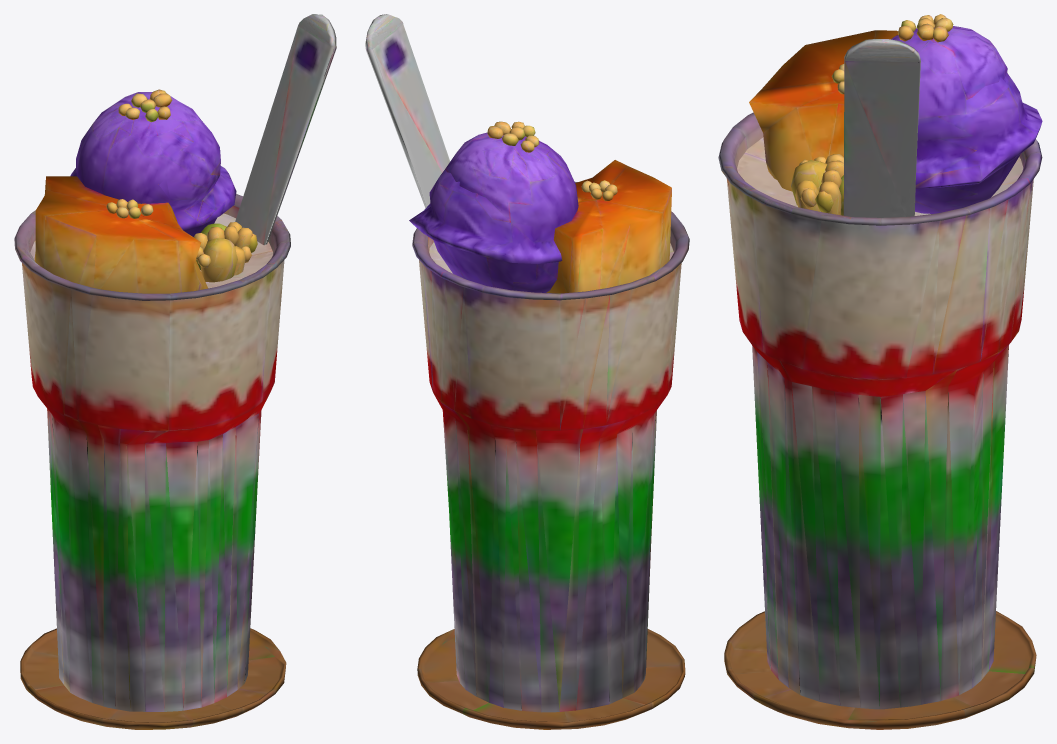
Rendered from halo-halo.glb.
The picture shows the model from 3 angles, left to right: view 1: azimuth 30°, elevation 25°; view 2: azimuth 150°, elevation 25°; view 3: azimuth 270°, elevation 25°; orthographic projection. The views are drawn at different scales.
Parts seen in each view (by area): view 1: geometry_0; view 2: geometry_0; view 3: geometry_0.
Boxes of the visible parts, x1,y1,x2,y2 form: geometry_0: (14,14,336,729); geometry_0: (365,14,689,729); geometry_0: (718,14,1042,729).
Size of the model in its own units: 0.4997 by 1 by 0.4048.
Materials: 1 (1 with a texture image).
